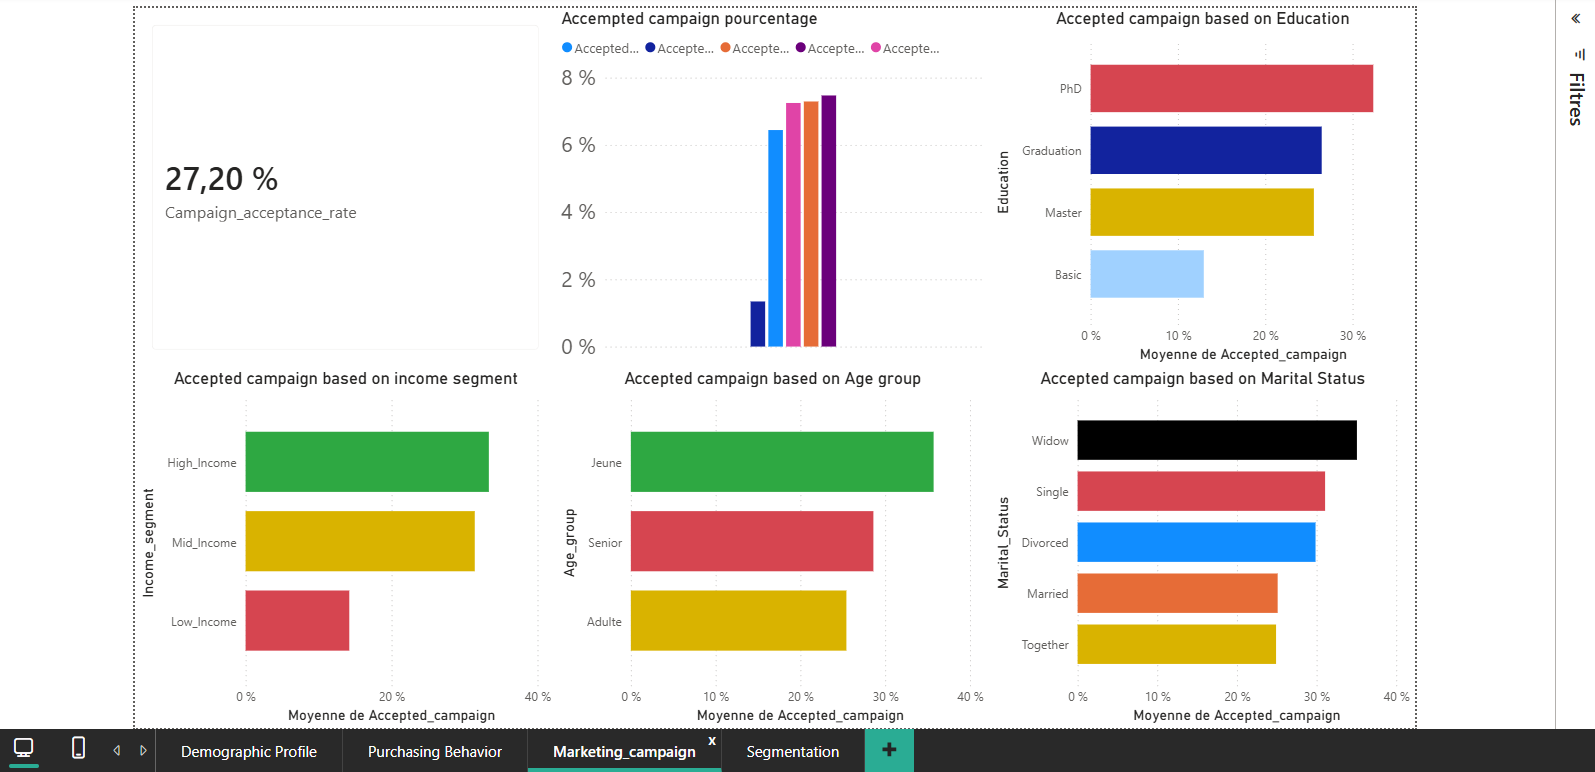

This screenshot's page, from the dashboard's own definition file:
{"tool":"powerbi","page":{"name":"Marketing_campaign","canvas":[1280,720],"ordinal":2},"visuals":[{"type":"cardVisual","fields":{"Data":["dim_campaign.Campaign_acceptance_rate_2"]},"box":[0,0,421.7,359.5],"z":0},{"type":"clusteredColumnChart","title":"Accempted campaign pourcentage","fields":{"Y":["Avg(customers_clean.AcceptedCmp1)","Avg(customers_clean.AcceptedCmp2)","Avg(customers_clean.AcceptedCmp3)","Avg(customers_clean.AcceptedCmp4)","Avg(customers_clean.AcceptedCmp5)"]},"box":[421.7,0,432.9,359.5],"z":1000},{"type":"clusteredBarChart","title":"Accepted campaign based on Education","fields":{"Category":["customers_clean.Education"],"Y":["Avg(customers_clean.Accepted_campaign)"]},"box":[854.6,0,425.4,359.5],"z":2000},{"type":"clusteredBarChart","title":"Accepted campaign based on income segment","fields":{"Y":["Avg(customers_clean.Accepted_campaign)"],"Category":["customers_clean.Income_segment"]},"box":[0,359.5,421.7,360.7],"z":3000},{"type":"clusteredBarChart","title":"Accepted campaign based on Age group","fields":{"Y":["Avg(customers_clean.Accepted_campaign)"],"Category":["customers_clean.Age_group"]},"box":[421.7,359.5,432.9,360.7],"z":4000},{"type":"clusteredBarChart","title":"Accepted campaign based on  Marital Status","fields":{"Y":["Avg(customers_clean.Accepted_campaign)"],"Category":["customers_clean.Marital_Status"]},"box":[854.6,359.5,425.4,360.7],"z":5000}]}

Visuals, with their boxes on the page's 1280x720 design canvas (x1, y1, x2, y2). These are canvas units, not pixel positions in the 1595x772 screenshot, which may show the page scaled, cropped or inside an application window:
cardVisual - dim_campaign.Campaign_acceptance_rate_2: 0,0,422,360
"Accempted campaign pourcentage" clusteredColumnChart: 422,0,855,360
"Accepted campaign based on Education" clusteredBarChart: 855,0,1280,360
"Accepted campaign based on income segment" clusteredBarChart: 0,360,422,720
"Accepted campaign based on Age group" clusteredBarChart: 422,360,855,720
"Accepted campaign based on  Marital Status" clusteredBarChart: 855,360,1280,720
